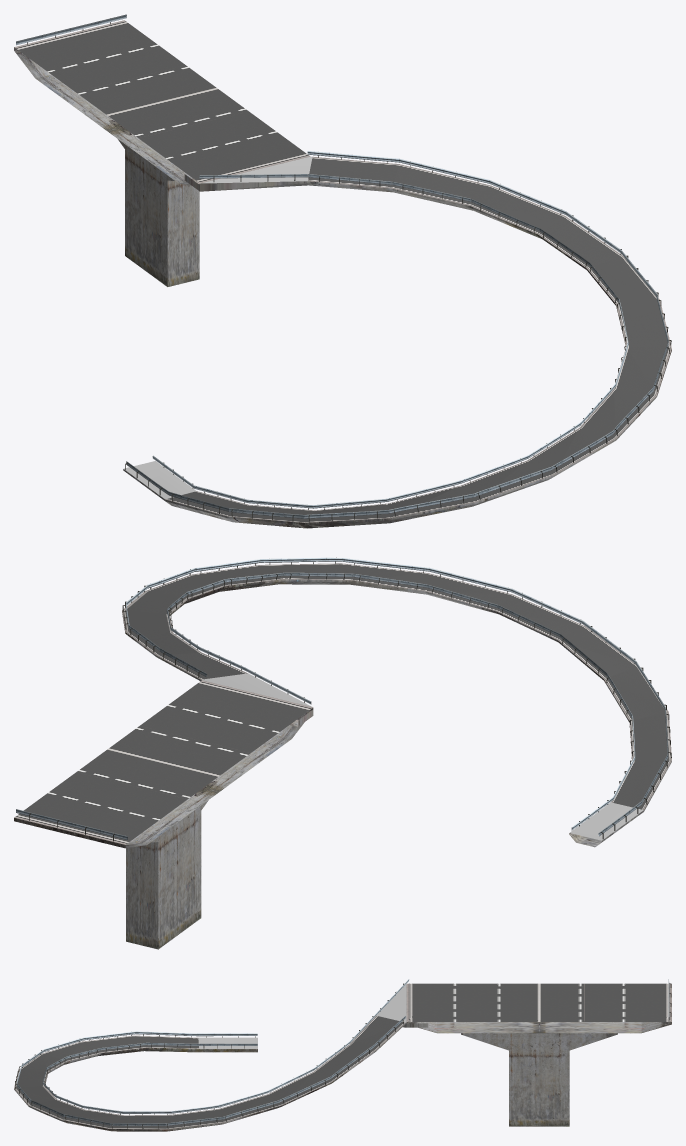
Rendered from 6 line highway offramp.FBX.
3 renders of one model, top to bottom at view 1: azimuth 30°, elevation 25°; view 2: azimuth 150°, elevation 25°; view 3: azimuth 270°, elevation 25°, orthographic. The views are drawn at different scales.
Parts seen in each view (by area): view 1: Plane329; view 2: Plane329; view 3: Plane329.
Part boxes in pixels (x1,y1,x2,y2): Plane329: [14, 14, 671, 528]; Plane329: [14, 557, 671, 949]; Plane329: [14, 979, 671, 1131].
Size of the model in its own units: 51.88 by 18.7 by 87.04.
